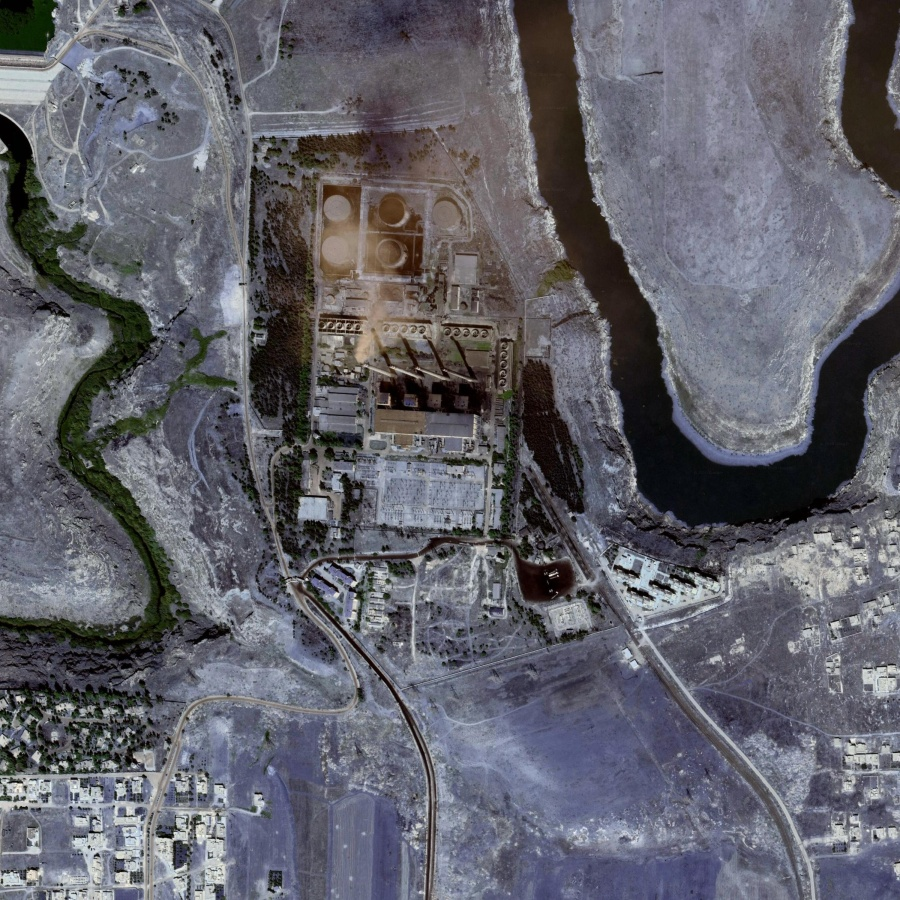PowerPlant: (259, 131, 637, 644)
